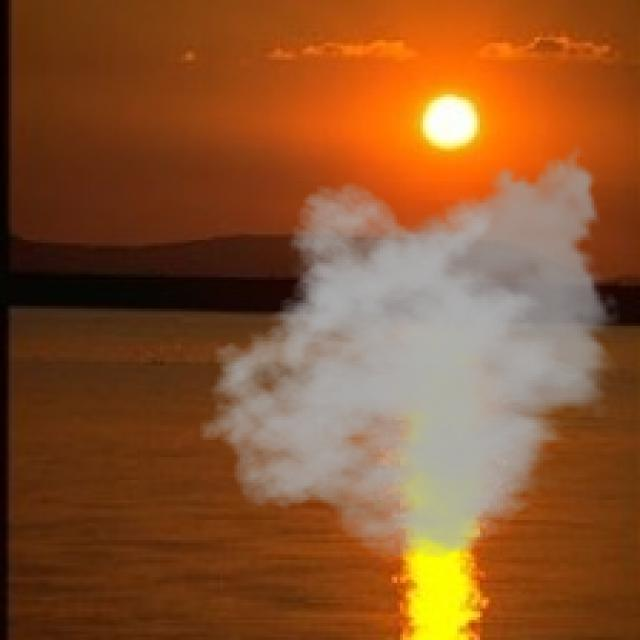smoke: (197, 140, 623, 560)
